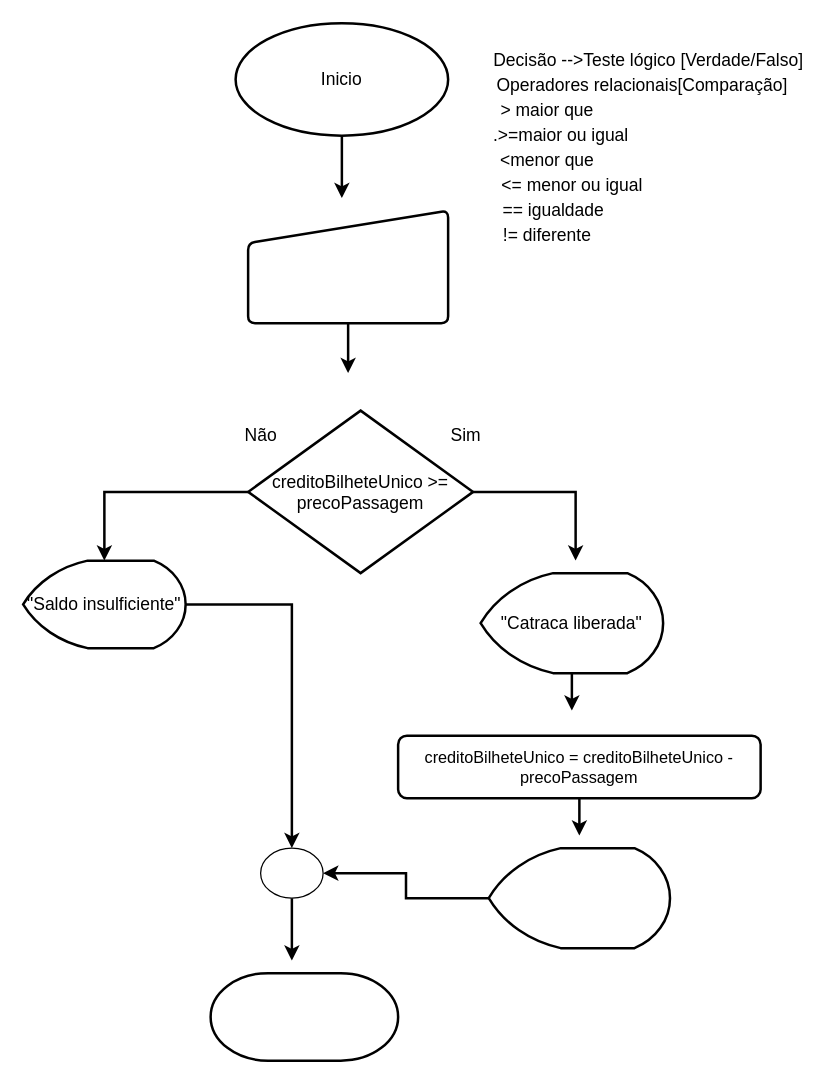
Some shapes in this 831 by 1083 pixel diagram are drawn without their labels. Each missing label, with the centre of its shape:
"creditoBilheteUnico" belongs at (579,897).
"creditoDoBilheteUnico precoPassagem" belongs at (347,266).
"Fim" belongs at (304,1016).
